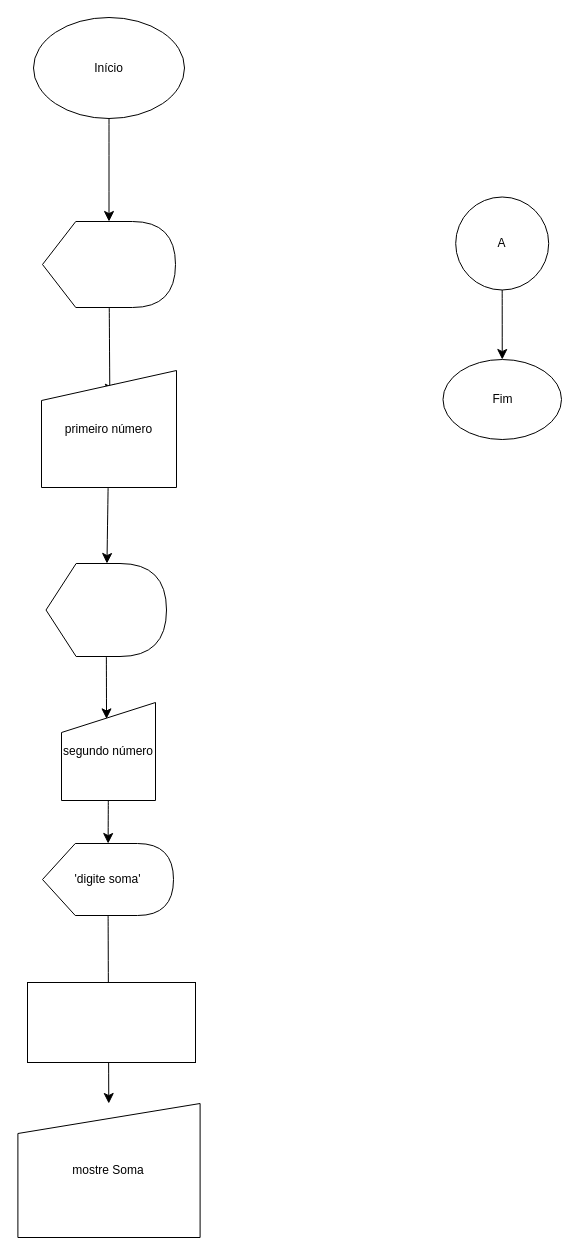
This 579x1255 diagram has some shape labels left out. Each missing label, with the centre of its shape:
"digite o valor do n1": [109,264]
"digite o valor do segundo número": [105,609]
Soma<-n1+n2: [111,1022]
